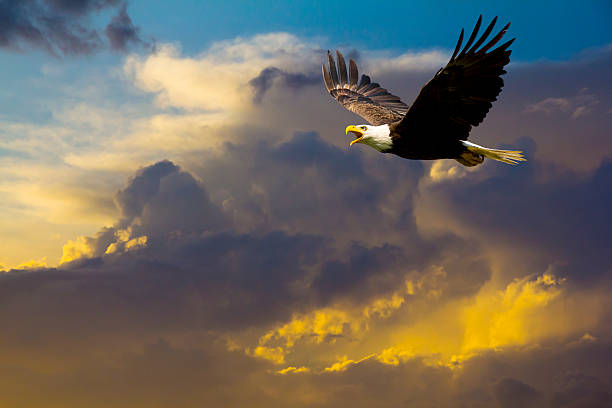Bird: (320, 11, 530, 171)
